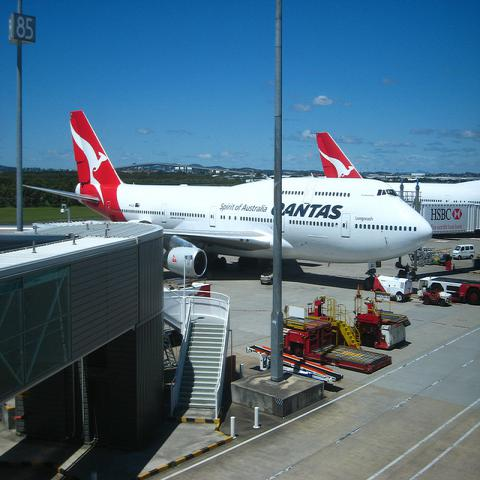car: (416, 282, 452, 310), (452, 244, 476, 260)
truck: (417, 275, 479, 306), (373, 273, 413, 302), (261, 268, 273, 284)
